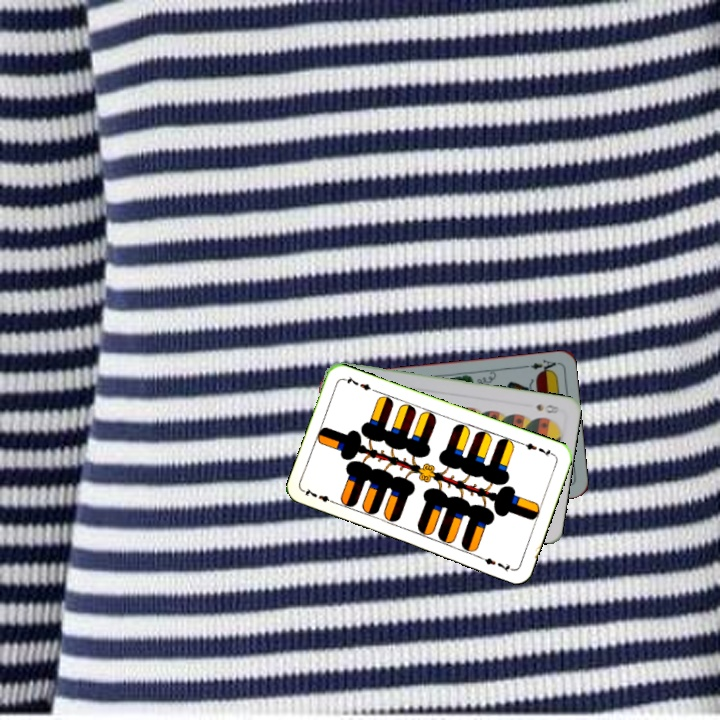E7: (300, 484, 339, 507), (517, 438, 557, 459)
EA: (519, 356, 559, 375)
S8: (532, 400, 562, 416)
